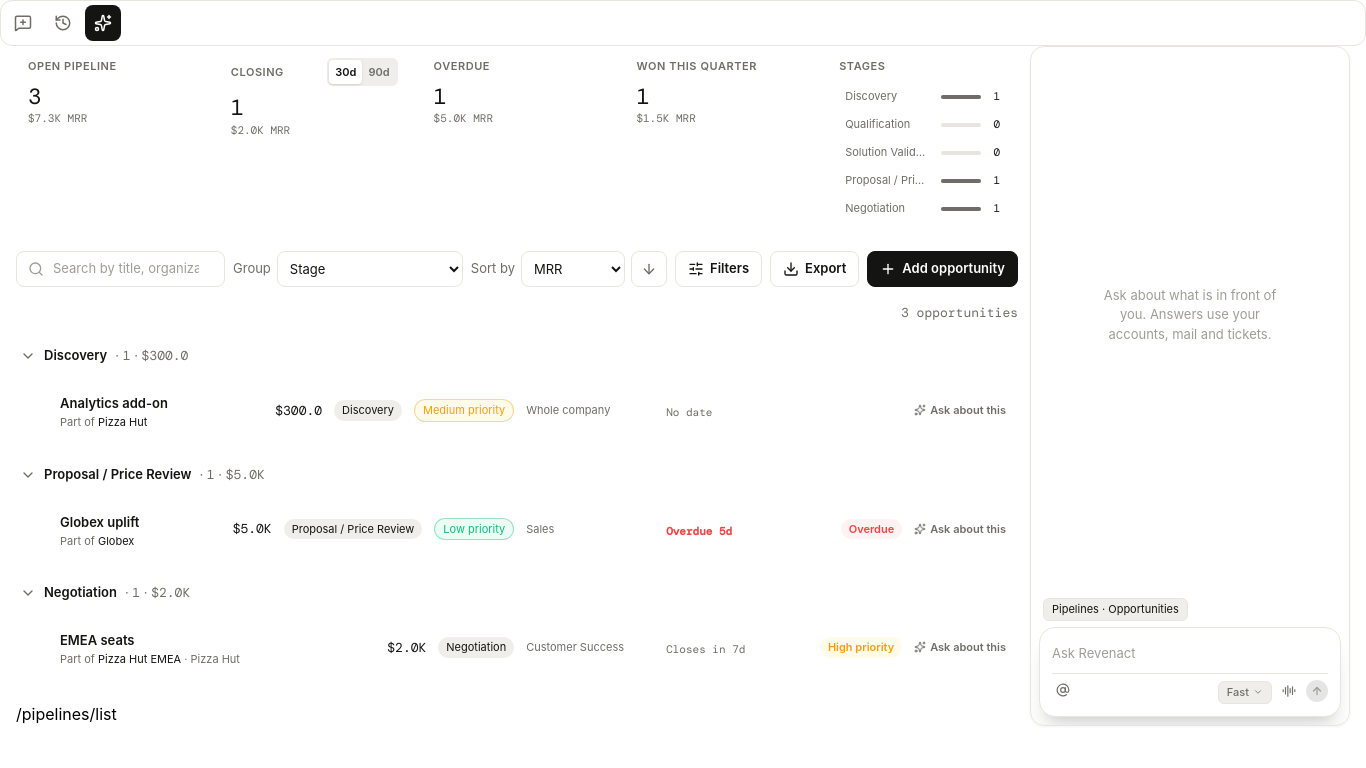
Test: Ask about this on Pipelines › opening an item narrows nothing: the question after its form is about the list
This screenshot has width=1366, height=768.
Click the button "EMEA seats" at (97, 641), box [60,631,134,650]
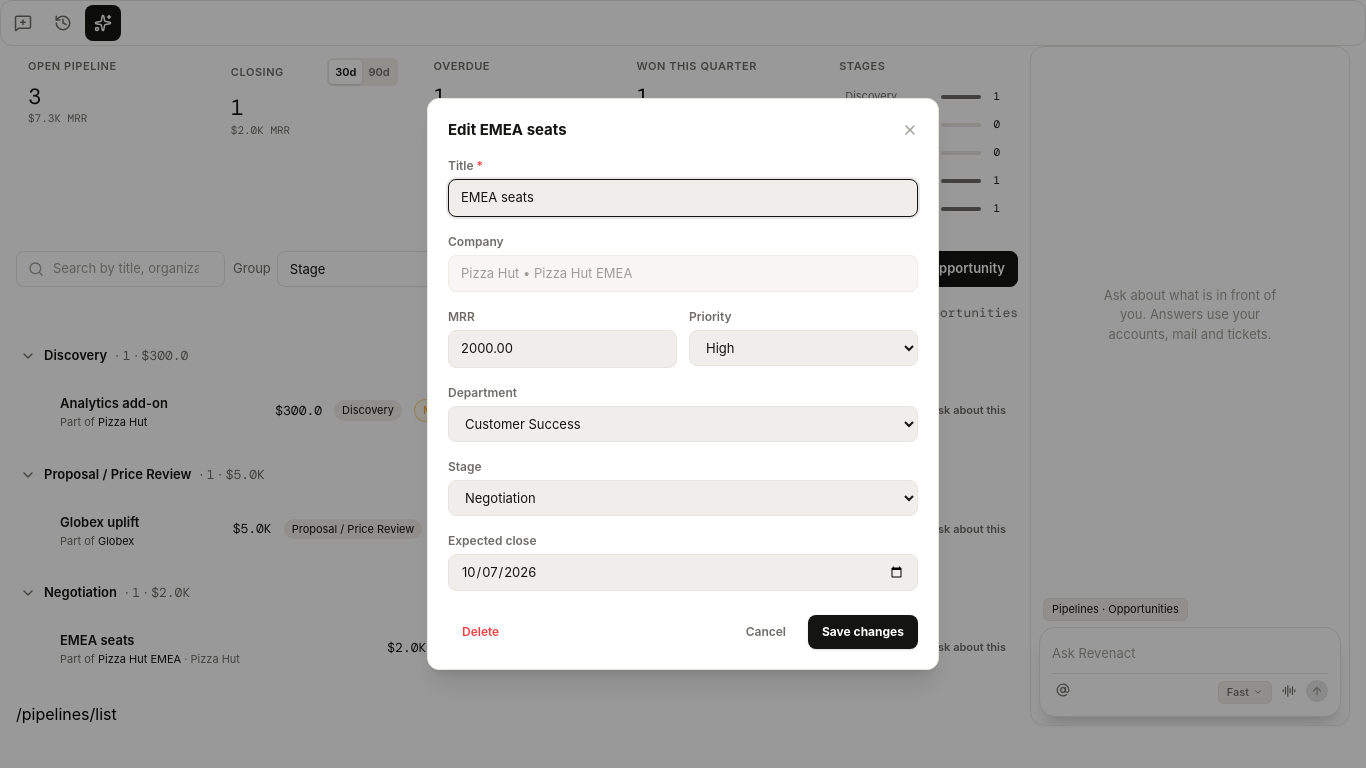
Click the button "Cancel" at (766, 632), box [732,615,800,649]
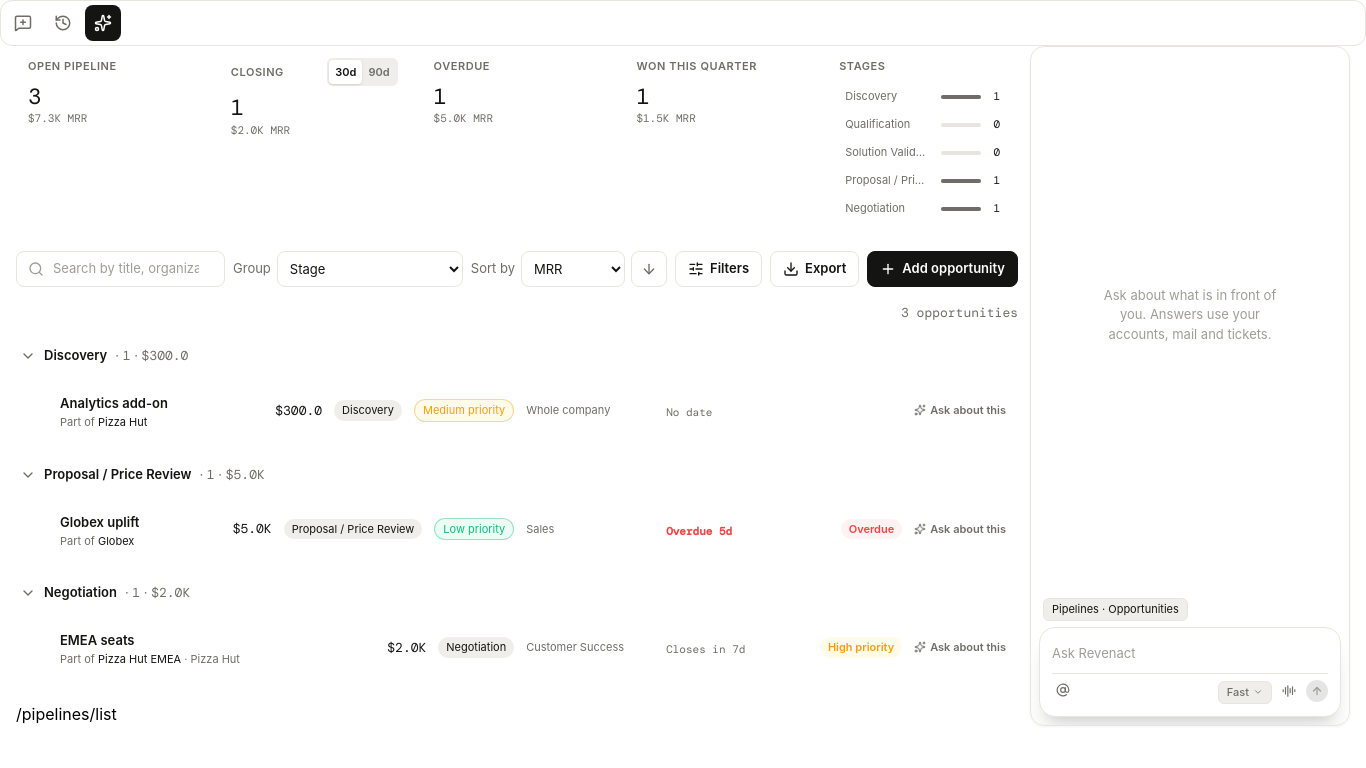
Expected: the text "Pipelines · Opportunities" is shown, [1043,598,1188,620]
Result: the heading "Edit EMEA seats" is gone
Type "What is open?" into the field with placeholder "Ask Revenact" at (1190, 653), box [1052,642,1328,665]
Then press Enter
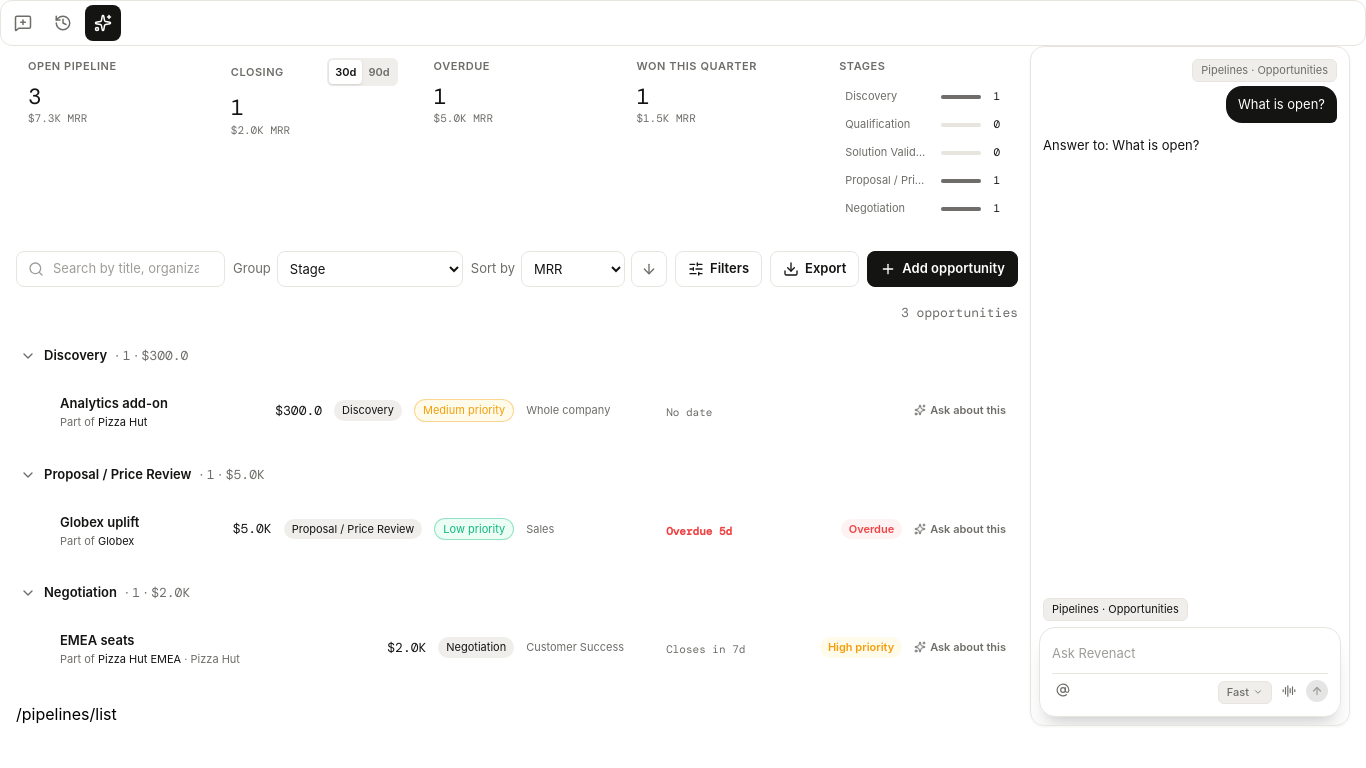
Result: the text "Answer to: What is open?" is shown at [1043,135,1199,156]
